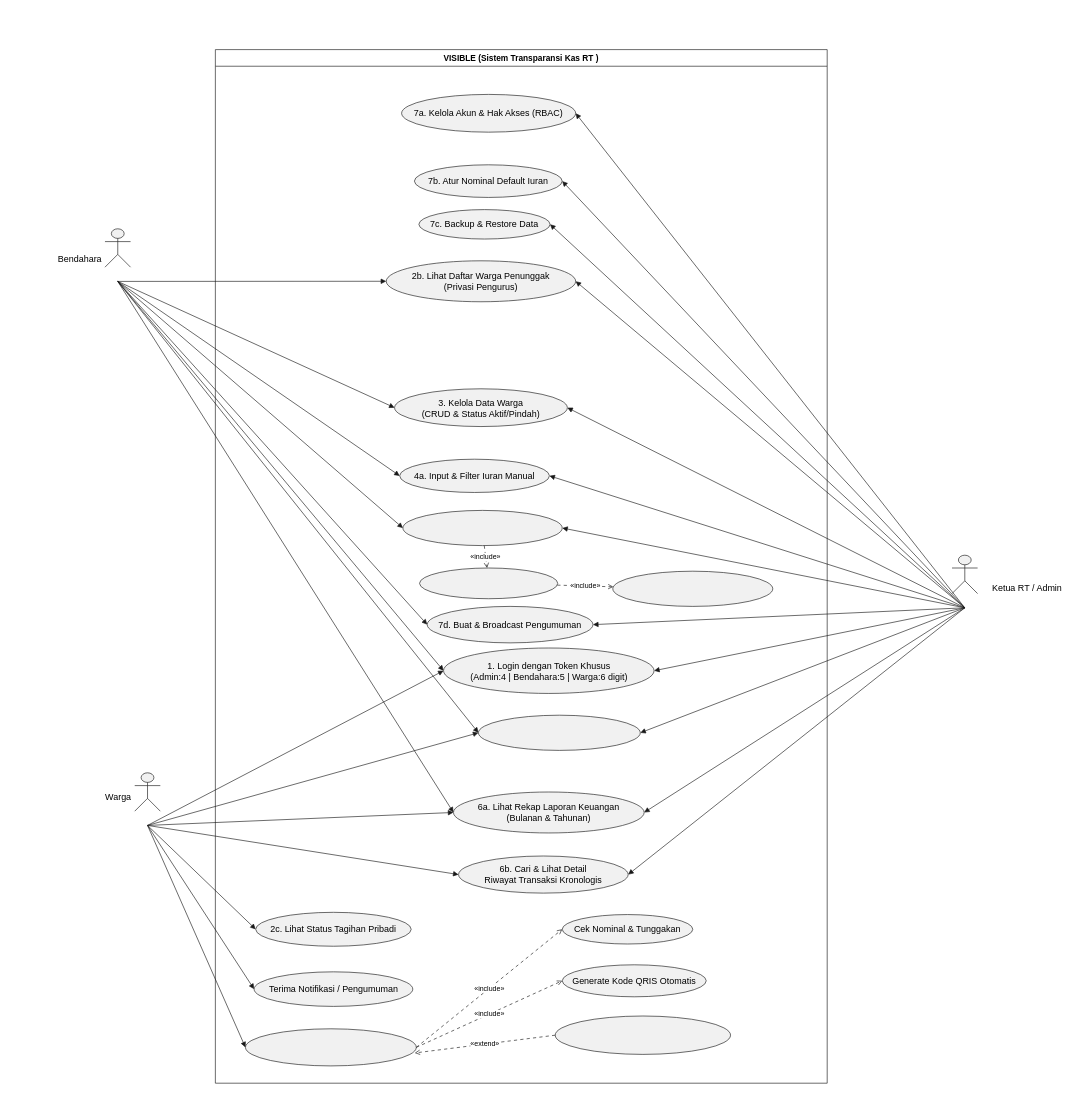
Some shapes in this 1080 by 1094 pixel diagram are drawn without their labels. The shapes that lost their labels are listed below. From the top down, each one's centre as x and y in pixels, then its label:
At (482,528): "5a. Catat Pengeluaran & Kategori".
At (488,583): "5b. Scan Foto Nota via OCR".
At (692,588): "Validasi Kesesuaian Nominal Nota".
At (559,732): "2a. Lihat Dashboard Utama (Saldo, Grafik, Berita)".
At (330,1047): "4b. Akses Menu Pembayaran Warga".
At (643,1034): "Konfirmasi Pembayaran Sukses (Callback Gateway)".
